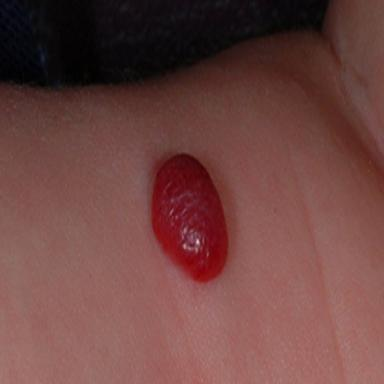Hemangiome: (152, 154, 228, 280)
